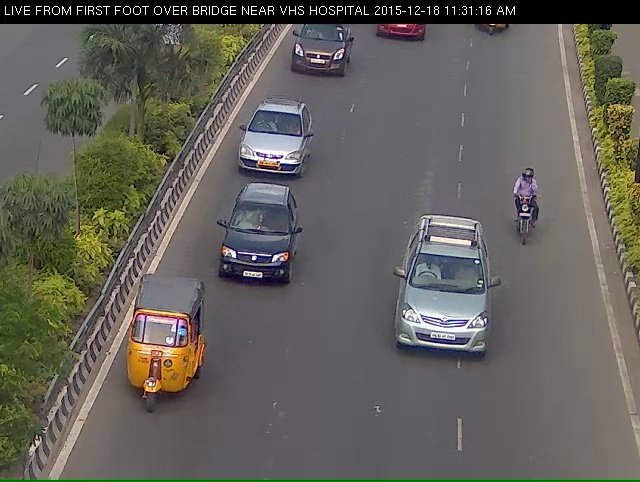Auto: (122, 295, 200, 446)
Car: (389, 233, 504, 397), (213, 198, 314, 314), (236, 110, 311, 189), (286, 23, 356, 90)
Person: (504, 170, 554, 263)
